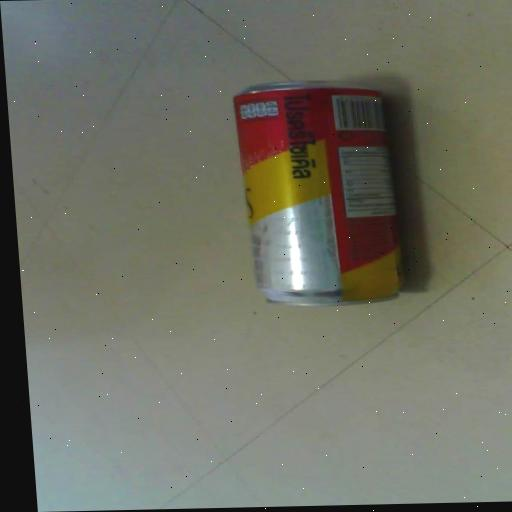canned: (208, 69, 436, 320)
